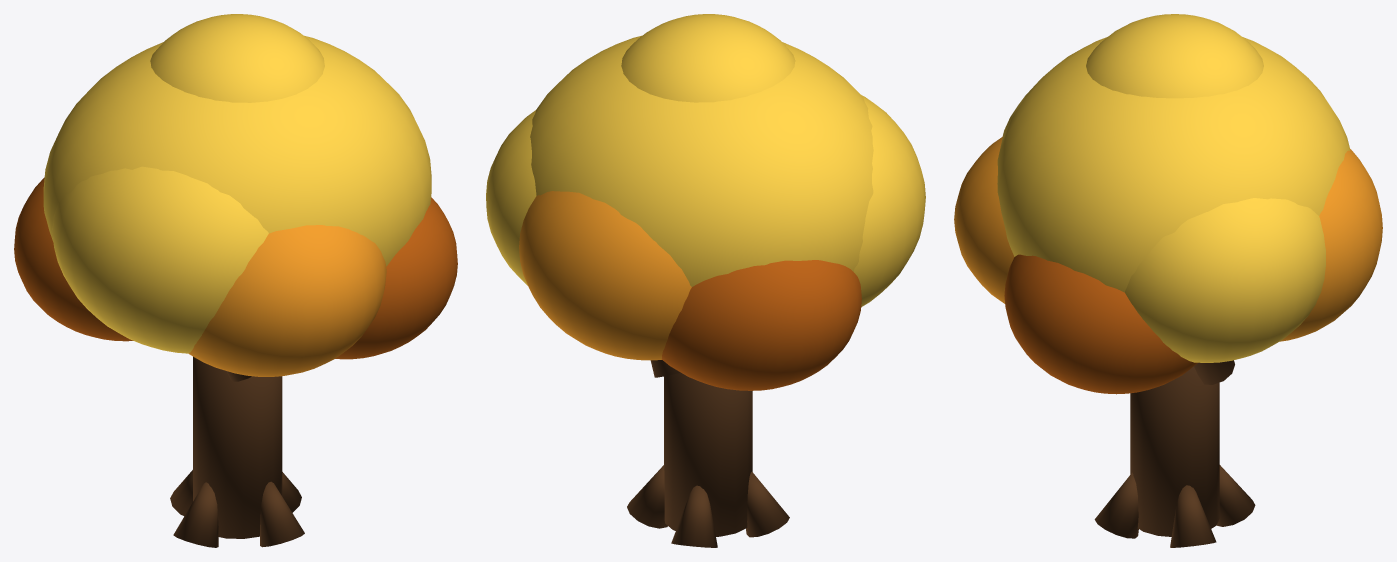
Rendered from tree_autumn.glb.
3 views of the same model, side by side, from view 1: azimuth 30°, elevation 25°; view 2: azimuth 150°, elevation 25°; view 3: azimuth 270°, elevation 25° (orthographic).
Visible parts, largest first — view 1: FoliagePuff_0, FoliagePuff_2, FoliagePuff_4, TrunkBase, FoliagePuff_7, FoliagePuff_5, FoliagePuff_6, Root_2, Root_3, Root_1; view 2: FoliagePuff_0, FoliagePuff_3, FoliagePuff_6, TrunkBase, FoliagePuff_7, FoliagePuff_2, FoliagePuff_1, Root_1, Root_2, Root_0; view 3: FoliagePuff_0, FoliagePuff_1, FoliagePuff_5, TrunkBase, FoliagePuff_7, FoliagePuff_3, FoliagePuff_4, Root_0, Root_3, Root_1, Branch1.
Boxes of the visible parts, bbox=[...] form: FoliagePuff_0: bbox=[43, 35, 431, 266]; FoliagePuff_2: bbox=[52, 166, 268, 353]; FoliagePuff_4: bbox=[189, 225, 386, 376]; TrunkBase: bbox=[193, 356, 282, 538]; FoliagePuff_7: bbox=[150, 14, 324, 102]; FoliagePuff_5: bbox=[335, 197, 457, 359]; FoliagePuff_6: bbox=[14, 177, 133, 341]; Root_2: bbox=[173, 482, 218, 547]; Root_3: bbox=[260, 481, 304, 547]; Root_1: bbox=[170, 470, 192, 516]; FoliagePuff_0: bbox=[530, 35, 873, 286]; FoliagePuff_3: bbox=[519, 191, 691, 360]; FoliagePuff_6: bbox=[661, 260, 861, 390]; TrunkBase: bbox=[664, 372, 752, 536]; FoliagePuff_7: bbox=[621, 14, 795, 102]; FoliagePuff_2: bbox=[853, 95, 925, 306]; FoliagePuff_1: bbox=[486, 110, 536, 285]; Root_1: bbox=[671, 485, 717, 547]; Root_2: bbox=[746, 472, 789, 537]; Root_0: bbox=[627, 465, 667, 528]; FoliagePuff_0: bbox=[997, 37, 1349, 292]; FoliagePuff_1: bbox=[1124, 198, 1325, 362]; FoliagePuff_5: bbox=[1004, 254, 1197, 394]; TrunkBase: bbox=[1130, 366, 1219, 536]; FoliagePuff_7: bbox=[1086, 14, 1263, 98]; FoliagePuff_3: bbox=[1280, 148, 1382, 341]; FoliagePuff_4: bbox=[954, 136, 1014, 303]; Root_0: bbox=[1170, 485, 1216, 547]; Root_3: bbox=[1094, 472, 1138, 538]; Root_1: bbox=[1216, 465, 1255, 526]; Branch1: bbox=[1194, 360, 1234, 384].
Bounding box in the file's own units: 3.83 × 4.95 × 3.82.
